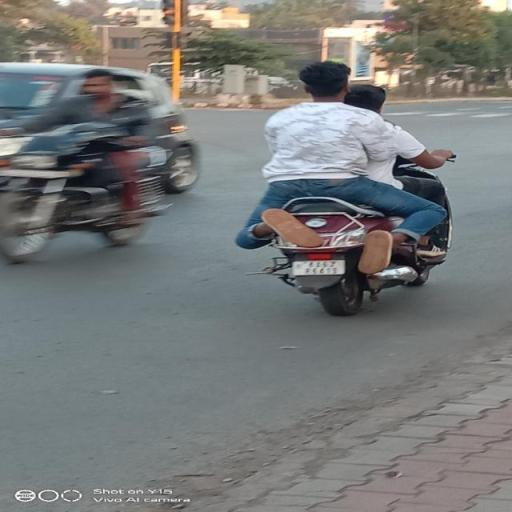bike: (234, 60, 469, 319)
withouthelmet: (304, 62, 350, 98), (347, 85, 386, 108)
